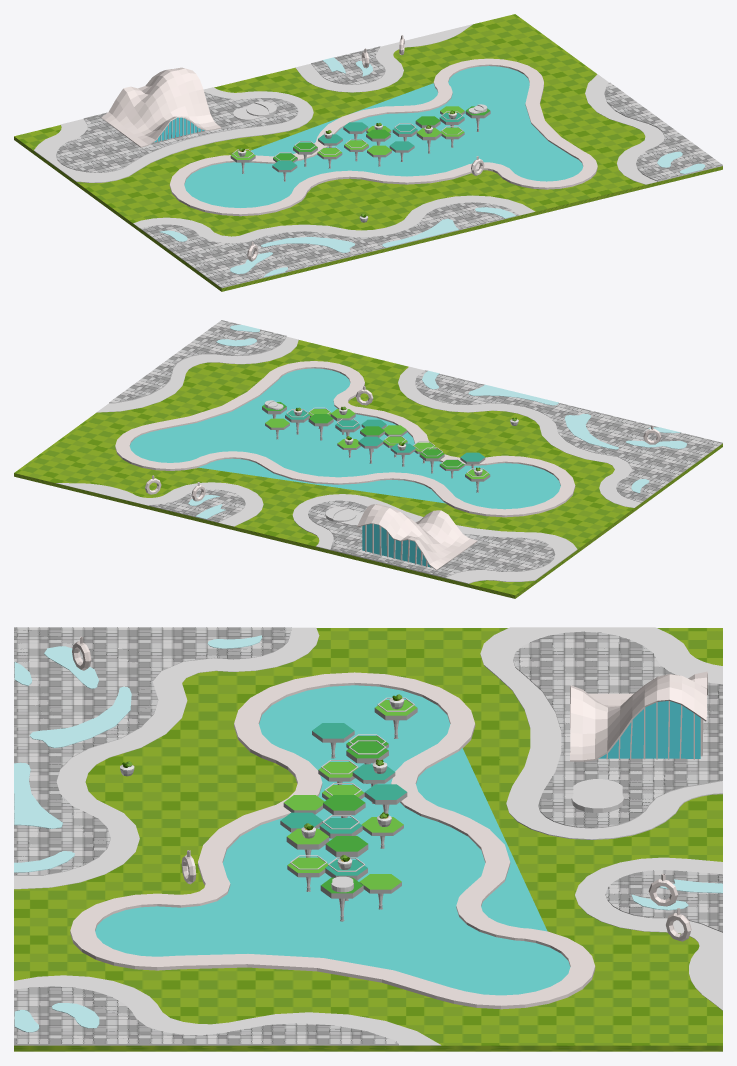
The model's file is D9_Park_1.fbx.
The picture shows the model from 3 angles, top to bottom: view 1: azimuth 30°, elevation 25°; view 2: azimuth 150°, elevation 25°; view 3: azimuth 270°, elevation 25°; orthographic projection. The views are drawn at different scales.
Parts seen in each view (by area): view 1: Cube.030; view 2: Cube.030; view 3: Cube.030.
Part boxes in pixels (x1,y1,x2,y2): Cube.030: (14, 14, 722, 291); Cube.030: (14, 320, 722, 598); Cube.030: (14, 627, 722, 1051).
Size of the model in its own units: 29050 by 2505 by 20850.
Materials: 6 (6 with a texture image).
